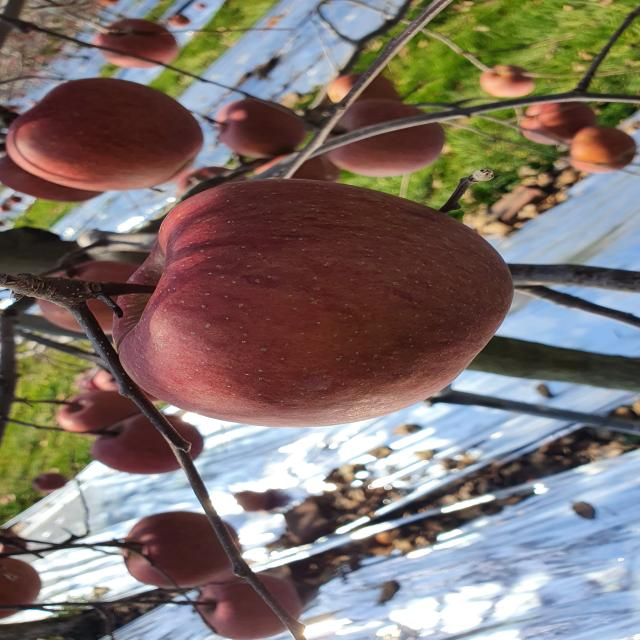fresh: (92, 173, 527, 434)
